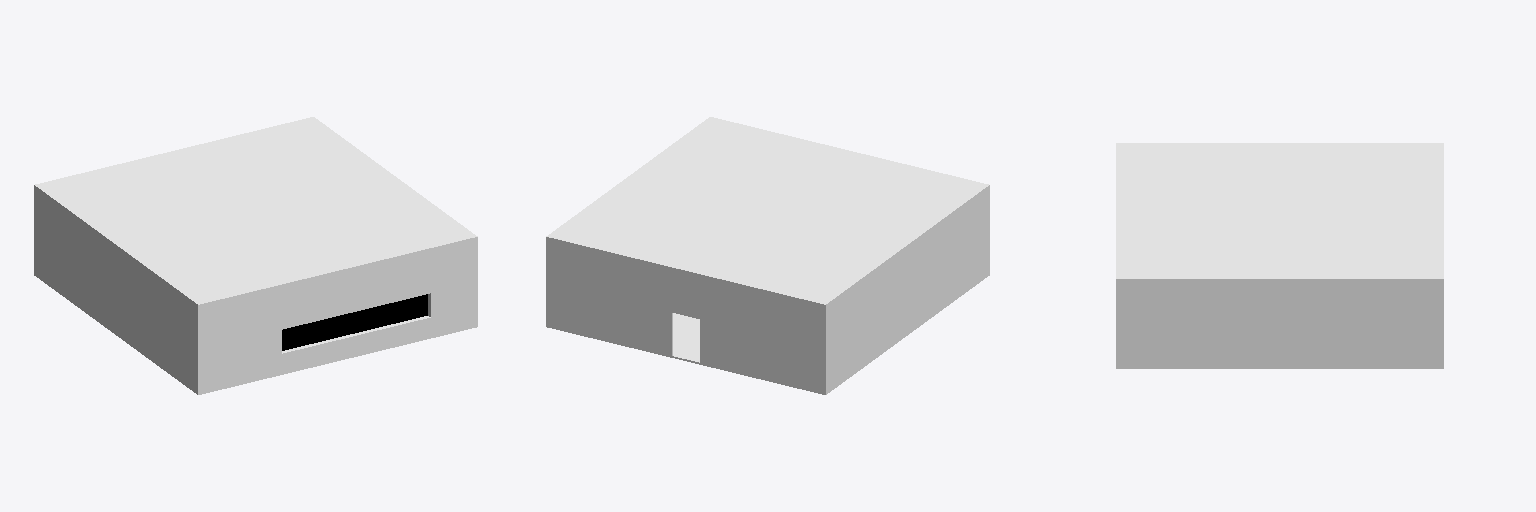
The model's file is Surface_Room.obj.
3 views of the same model, side by side, from view 1: azimuth 30°, elevation 25°; view 2: azimuth 150°, elevation 25°; view 3: azimuth 270°, elevation 25° (orthographic).
Parts seen in each view (by area): view 1: Surface_Room; view 2: Surface_Room; view 3: Surface_Room.
Part boxes in pixels (x1,y1,x2,y2): Surface_Room: (34,117,477,394); Surface_Room: (546,117,989,394); Surface_Room: (1116,143,1443,368).
Bounding box in the file's own units: 15.2 × 4.7 × 15.45.